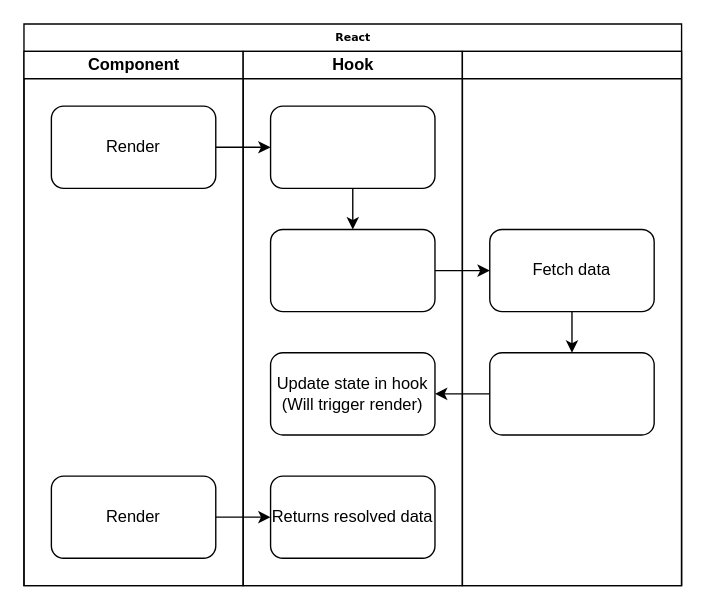
Some shapes in this 706 by 610 pixel diagram are drawn without their labels. Each missing label, with the box of its shape:
Check if data is available: (269, 105, 435, 188)
Data resolved: (488, 351, 654, 435)
Fetch API: (461, 50, 682, 586)
Trigger side effect to fetch data: (269, 228, 435, 312)
